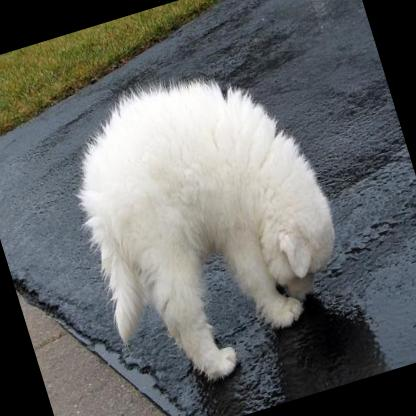Samoyed: (48, 44, 363, 400)
